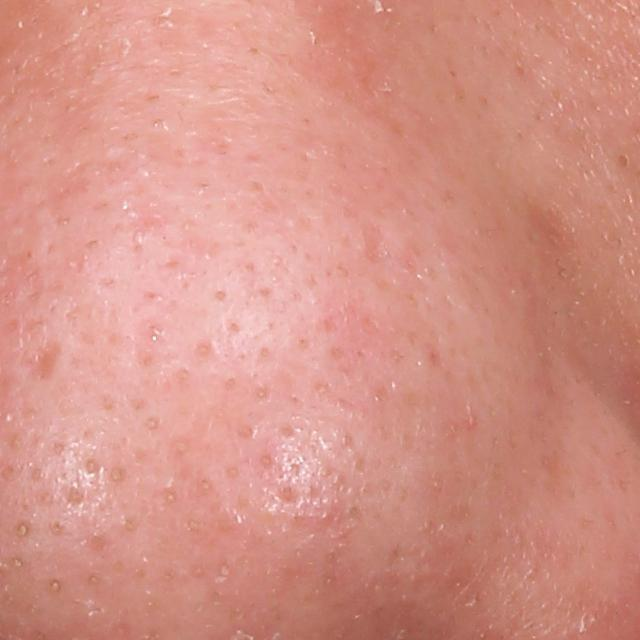atrophic_scar: (15, 321, 62, 384)
comedo: (8, 517, 36, 543), (612, 152, 628, 172)
